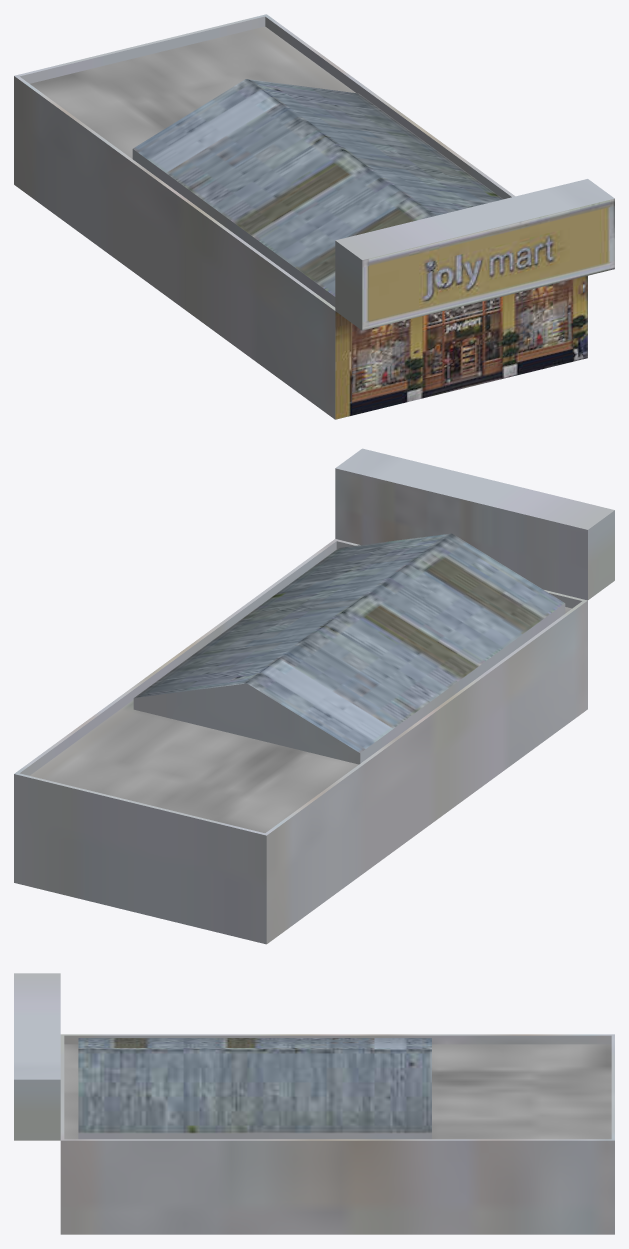
3 views of the same model, one above another, from view 1: azimuth 30°, elevation 25°; view 2: azimuth 150°, elevation 25°; view 3: azimuth 270°, elevation 25° (orthographic). The views are drawn at different scales.
Parts seen in each view (by area): view 1: 5da9907a4af547208cb76519.001; view 2: 5da9907a4af547208cb76519.001; view 3: 5da9907a4af547208cb76519.001.
Boxes of the visible parts, <box> form: 5da9907a4af547208cb76519.001: <box>14,14,614,419</box>; 5da9907a4af547208cb76519.001: <box>14,448,614,944</box>; 5da9907a4af547208cb76519.001: <box>14,973,614,1234</box>.
Bounding box in the file's own units: 10.95 × 7.43 × 26.15.
Materials: 1 (1 with a texture image).
